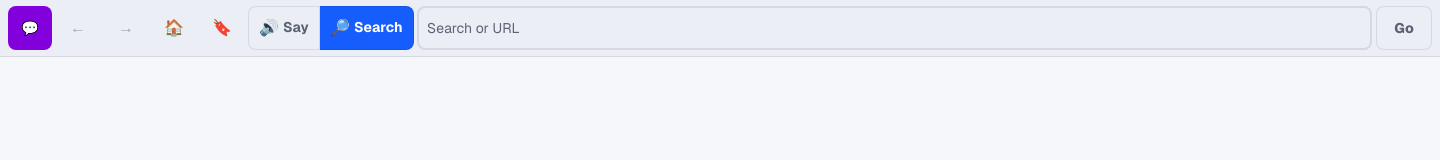
Test: Say or Search, in words › the empty field invites a message in Say mode, a search in Search mode
Expected: the button with aria-label "Tap to type a URL or search" reads "Search or URL", [417,6,1372,50]
Click the button with aria-label "Say mode": (284, 28) [248,6,320,50]
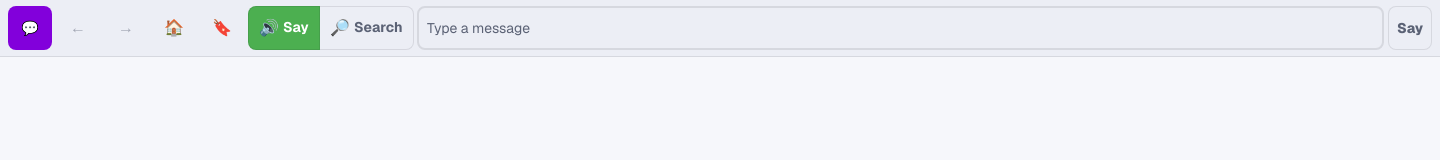
Expected: the button with aria-label "Tap to type a message" does not show "Search", [417,6,1384,50]
Expected: the button with aria-label "Tap to type a message" reads "Type a message", [417,6,1384,50]
